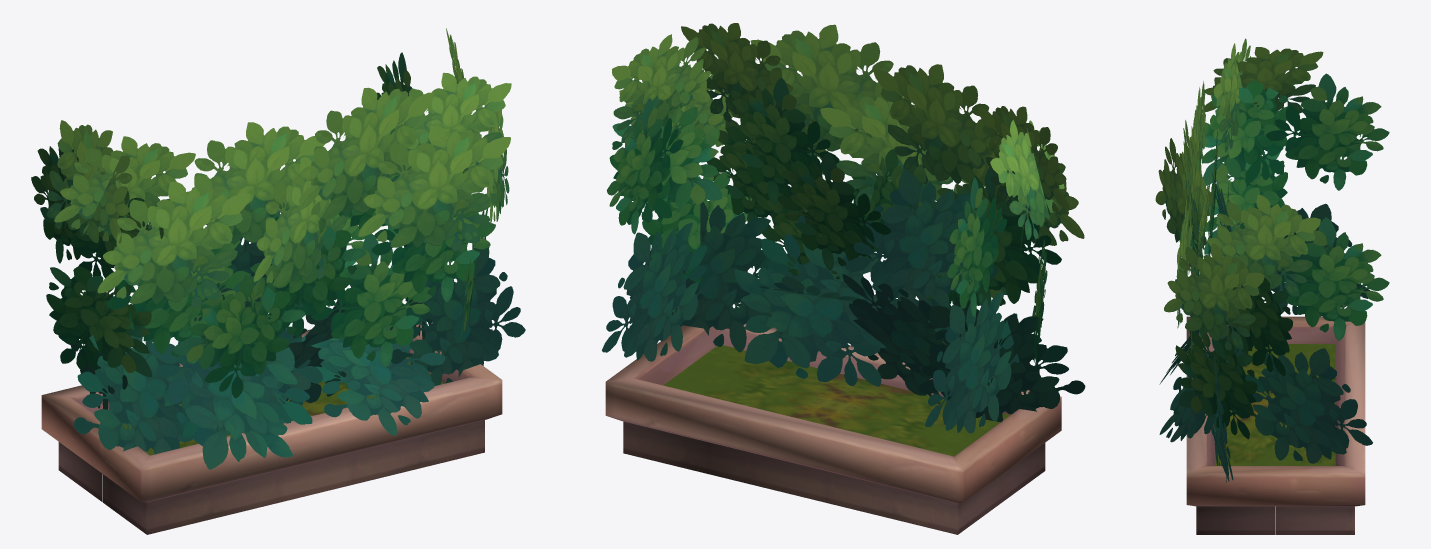
The model's file is xx_huatan2.FBX.
The picture shows the model from 3 angles, left to right: view 1: azimuth 30°, elevation 25°; view 2: azimuth 150°, elevation 25°; view 3: azimuth 270°, elevation 25°; orthographic projection. The views are drawn at different scales.
Visible parts, largest first — view 1: dj_huatan_02; view 2: dj_huatan_02; view 3: dj_huatan_02.
Part boxes in pixels (x1,y1,x2,y2): dj_huatan_02: [31, 28, 525, 534]; dj_huatan_02: [602, 23, 1085, 534]; dj_huatan_02: [1155, 38, 1389, 534].
Bounding box in the file's own units: 4.51 × 3.41 × 2.27.
